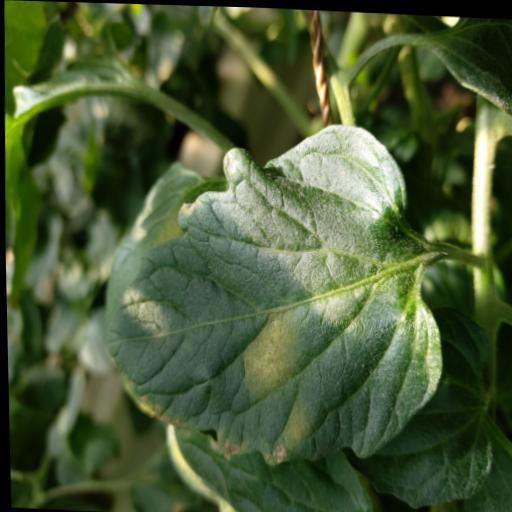Leaf Mold: (96, 110, 447, 472)
